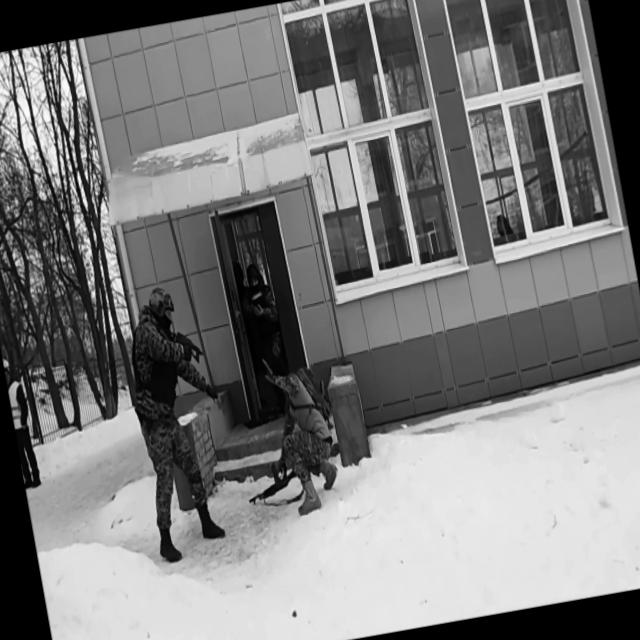gun: (243, 456, 302, 508), (155, 320, 205, 370)
person: (114, 279, 246, 564), (260, 348, 346, 517), (236, 259, 294, 410), (3, 362, 42, 489)
person with a gun: (114, 280, 245, 564), (225, 348, 346, 524)
